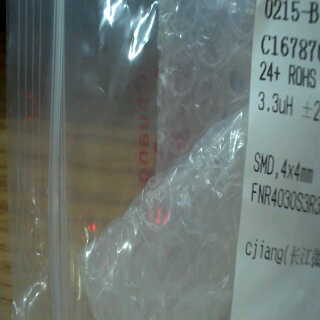3.3uH: (254, 86, 294, 121)
